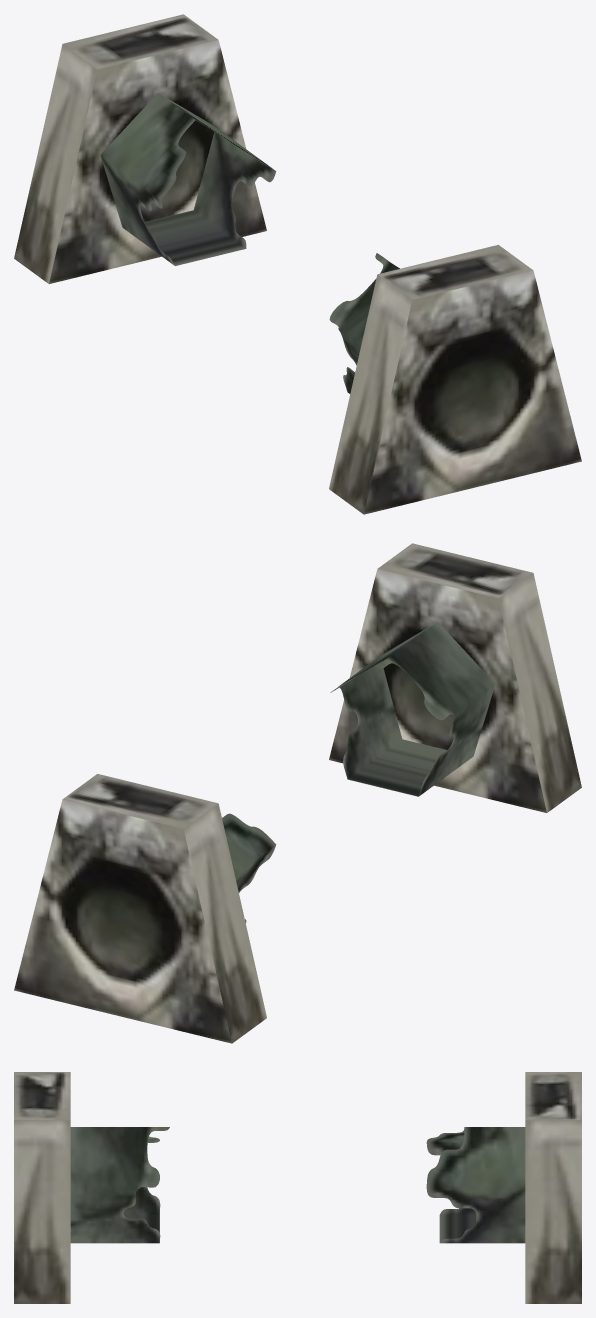
The model's file is straightpipe1_dam_hdtex.glb.
3 views of the same model, one above another, from view 1: azimuth 30°, elevation 25°; view 2: azimuth 150°, elevation 25°; view 3: azimuth 270°, elevation 25° (orthographic). The views are drawn at different scales.
Parts seen in each view (by area): view 1: straightpipe1_damaged; view 2: straightpipe1_damaged; view 3: straightpipe1_damaged.
Part boxes in pixels (x1,y1,x2,y2): straightpipe1_damaged: (14,14,581,514); straightpipe1_damaged: (14,543,581,1043); straightpipe1_damaged: (14,1072,581,1303).
Size of the model in its own units: 3.07 by 2.73 by 8.52.
Materials: 1 (1 with a texture image).
